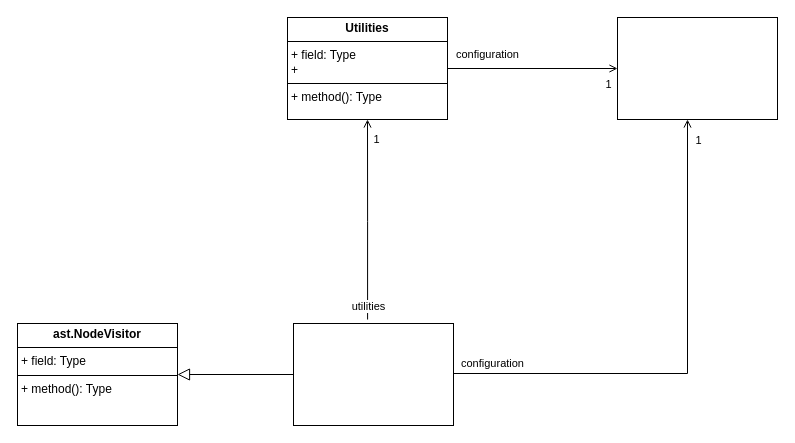
Some shapes in this 795 by 443 pixel diagram are drawn without their labels. Each missing label, with the centre of its shape:
Configuration + field: Type + + method(): Type: the point at 697,68
SourceCodeNode + field: Type + method(): Type: the point at 373,374
